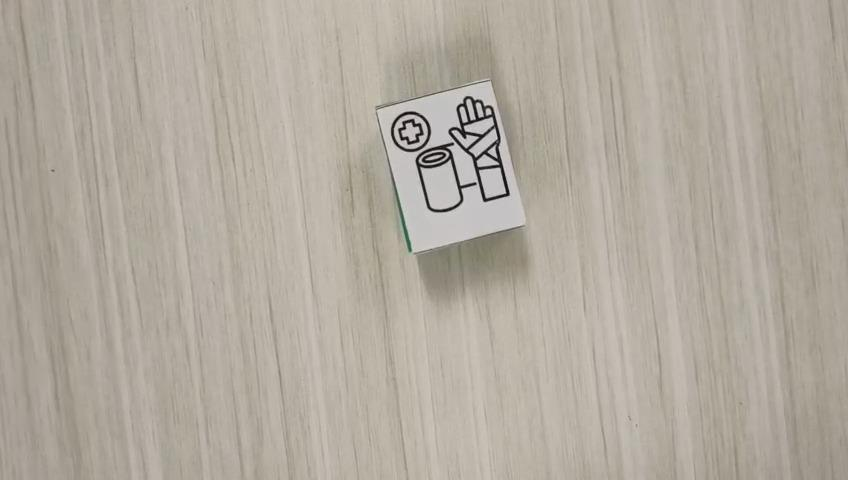Bandages: (374, 77, 526, 254)
